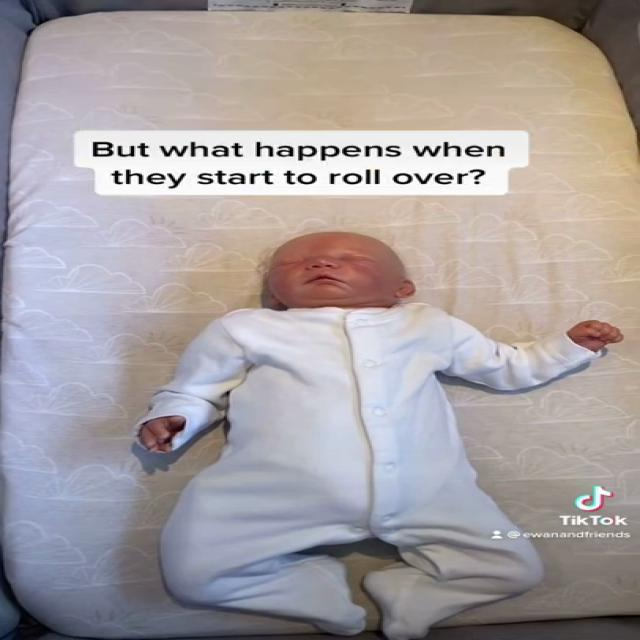baby: (132, 225, 640, 640)
